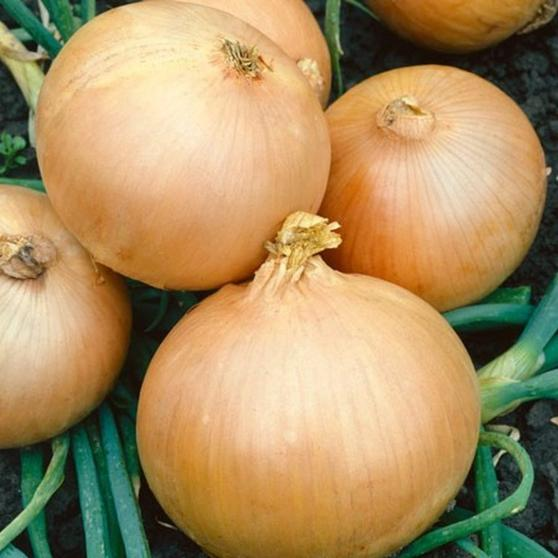onion: (133, 220, 484, 558), (32, 1, 333, 293), (324, 62, 550, 309), (2, 184, 129, 451)
